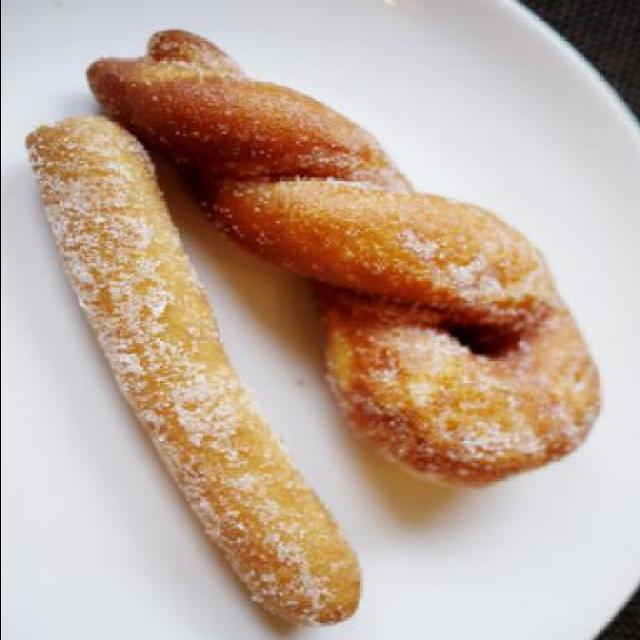Donuts: (51, 28, 614, 640)
